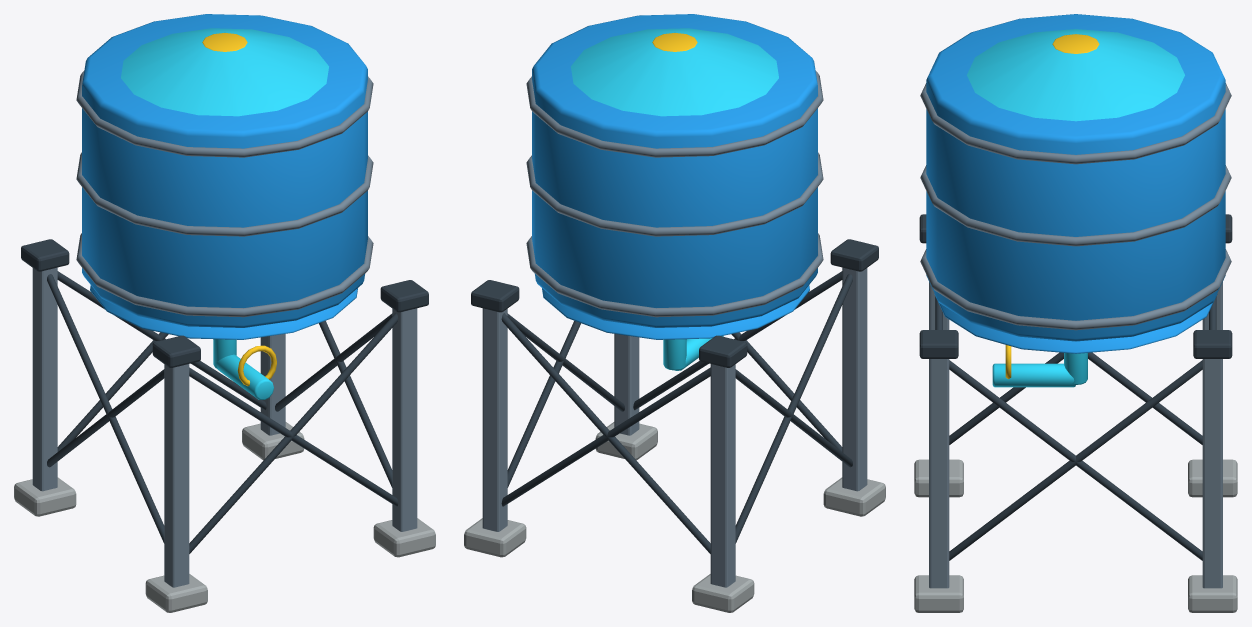
The model's file is FTF_Building_WaterTank_4Leg_4x4x6m.glb.
The picture shows the model from 3 angles, left to right: view 1: azimuth 30°, elevation 25°; view 2: azimuth 150°, elevation 25°; view 3: azimuth 270°, elevation 25°; orthographic projection. The views are drawn at different scales.
Parts seen in each view (by area): view 1: Water_Tank_Main, Water_Tank_Roof, Metal_Support_0, Metal_Support_1, Metal_Support_2, Tank_Band_Upper, Tank_Band_Lower, Tank_Band_Middle, Water_Tank_Bottom, Cross_Brace_00, Cross_Brace_04, Cross_Brace_01 (+15 smaller); view 2: Water_Tank_Main, Water_Tank_Roof, Metal_Support_2, Metal_Support_3, Metal_Support_0, Tank_Band_Upper, Tank_Band_Lower, Tank_Band_Middle, Water_Tank_Bottom, Cross_Brace_02, Cross_Brace_05, Metal_Support_1 (+15 smaller); view 3: Water_Tank_Main, Water_Tank_Roof, Metal_Support_1, Metal_Support_3, Tank_Band_Middle, Tank_Band_Upper, Tank_Band_Lower, Water_Tank_Bottom, Cross_Brace_06, Cross_Brace_07, Outlet_Horizontal, Concrete_Foot_1 (+9 smaller).
Boxes of the visible parts, x1,y1,x2,y2 form: Water_Tank_Main: (82,14,367,327); Water_Tank_Roof: (121,28,328,116); Metal_Support_0: (164,364,189,587); Metal_Support_1: (392,308,417,531); Metal_Support_2: (32,267,57,491); Tank_Band_Upper: (76,71,373,157); Tank_Band_Lower: (76,233,373,317); Tank_Band_Middle: (76,152,373,236); Water_Tank_Bottom: (90,285,357,339); Cross_Brace_00: (189,313,398,553); Cross_Brace_04: (47,274,164,543); Cross_Brace_01: (189,367,398,506); Water_Tank_Main: (532,14,817,327); Water_Tank_Roof: (571,28,778,116); Metal_Support_2: (710,364,735,587); Metal_Support_3: (482,308,507,531); Metal_Support_0: (842,267,867,491); Tank_Band_Upper: (526,71,823,157); Tank_Band_Lower: (526,233,823,317); Tank_Band_Middle: (526,152,823,236); Water_Tank_Bottom: (542,285,809,339); Cross_Brace_02: (501,313,710,553); Cross_Brace_05: (735,274,852,543); Metal_Support_1: (614,334,639,435); Water_Tank_Main: (926,14,1225,341); Water_Tank_Roof: (967,29,1184,121); Metal_Support_1: (929,359,949,588); Metal_Support_3: (1202,359,1222,588); Tank_Band_Middle: (920,165,1231,246); Tank_Band_Upper: (920,83,1231,164); Tank_Band_Lower: (920,249,1231,330); Water_Tank_Bottom: (934,293,1217,353); Cross_Brace_06: (949,360,1202,560); Cross_Brace_07: (949,360,1202,560); Outlet_Horizontal: (992,363,1075,387); Concrete_Foot_1: (914,575,963,612).
Size of the model in its own units: 3.5 by 6 by 3.5.
